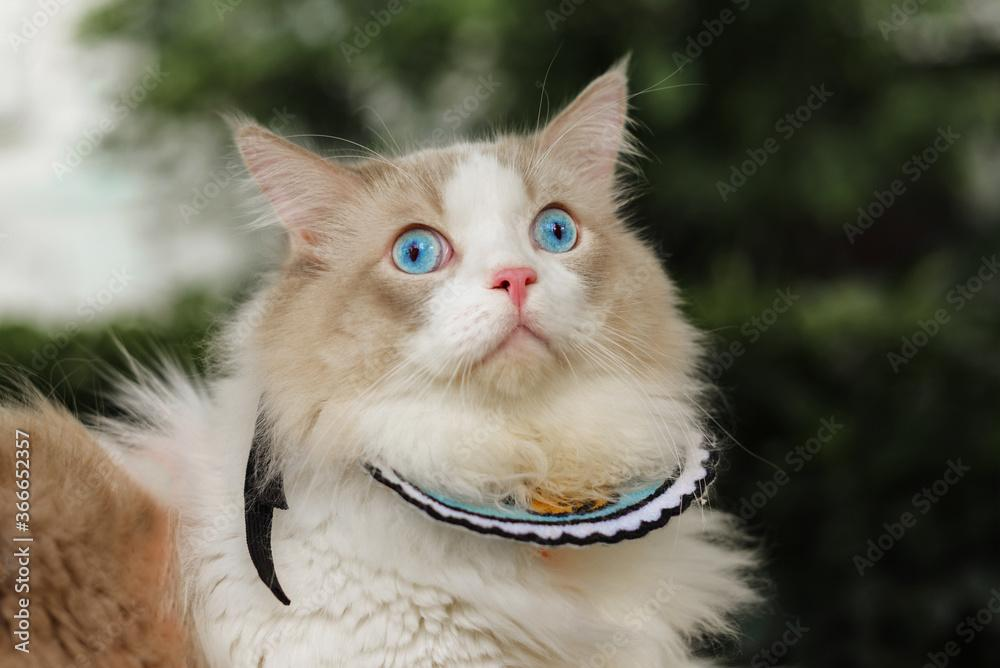ragdoll: (231, 59, 638, 411)
